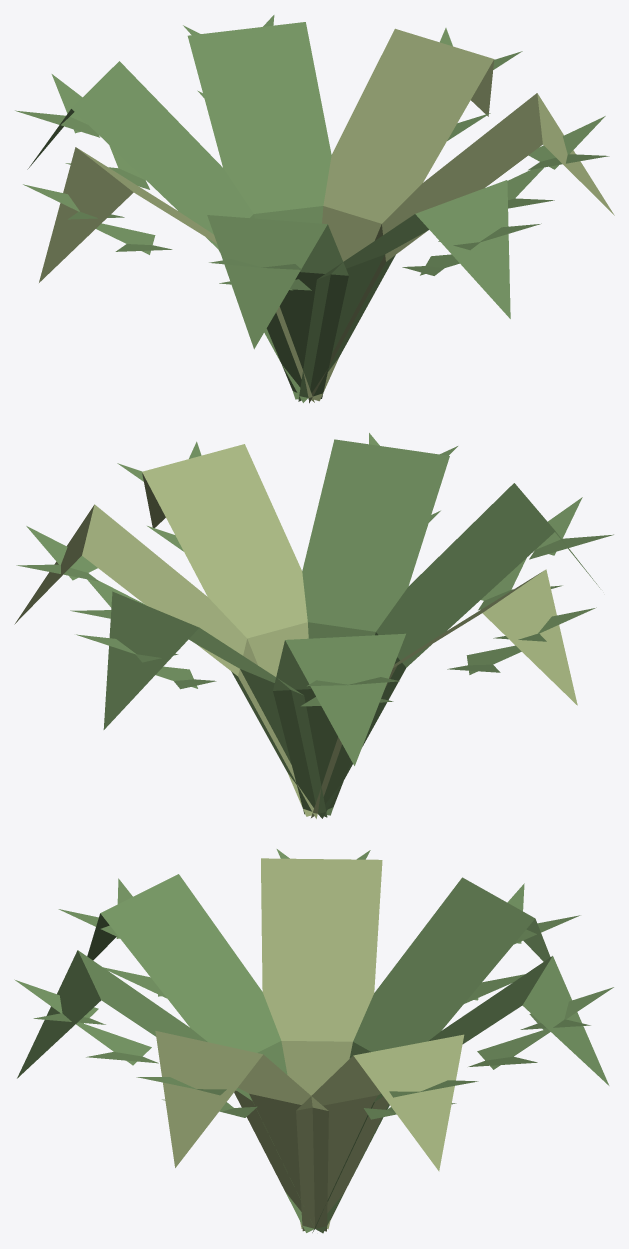
Rendered from root_fern.glb.
3 views of the same model, one above another, from view 1: azimuth 30°, elevation 25°; view 2: azimuth 150°, elevation 25°; view 3: azimuth 270°, elevation 25° (orthographic).
Parts seen in each view (by area): view 1: root_fern; view 2: root_fern; view 3: root_fern.
Part boxes in pixels (x1=…): root_fern: x1=15, y1=15, x2=614, y2=403; root_fern: x1=14, y1=433, x2=613, y2=818; root_fern: x1=14, y1=849, x2=613, y2=1233.
Size of the model in its own units: 0.8801 by 0.445 by 0.8887.
